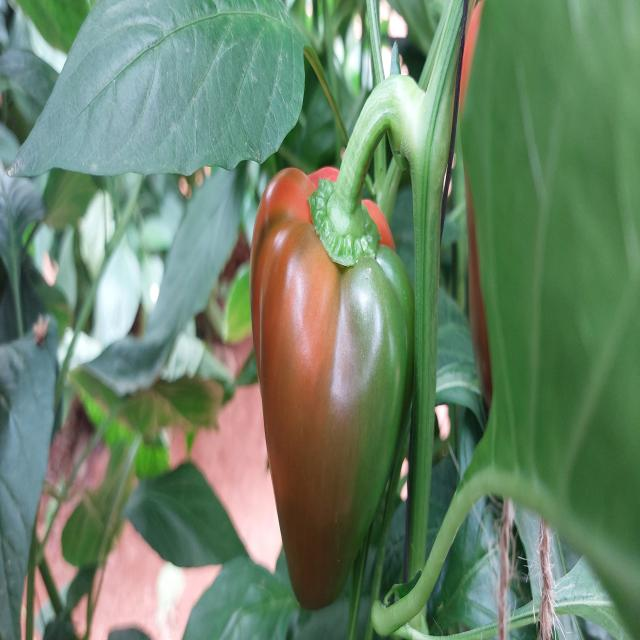BrownishRed--Can-be-Harvested: (244, 145, 415, 614)
